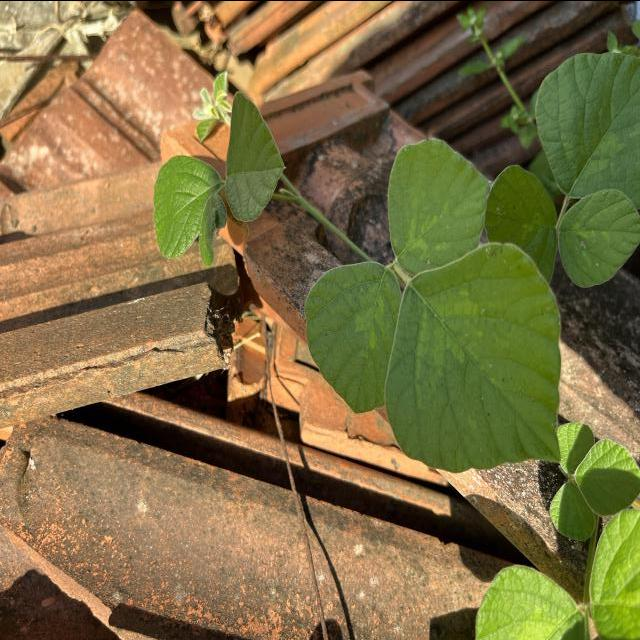Pseudarthria viscida: (302, 134, 564, 476)
